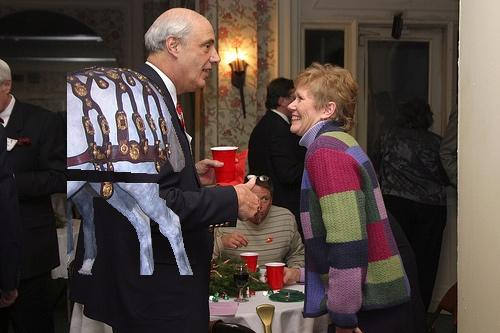tampered: (68, 67, 193, 275)
